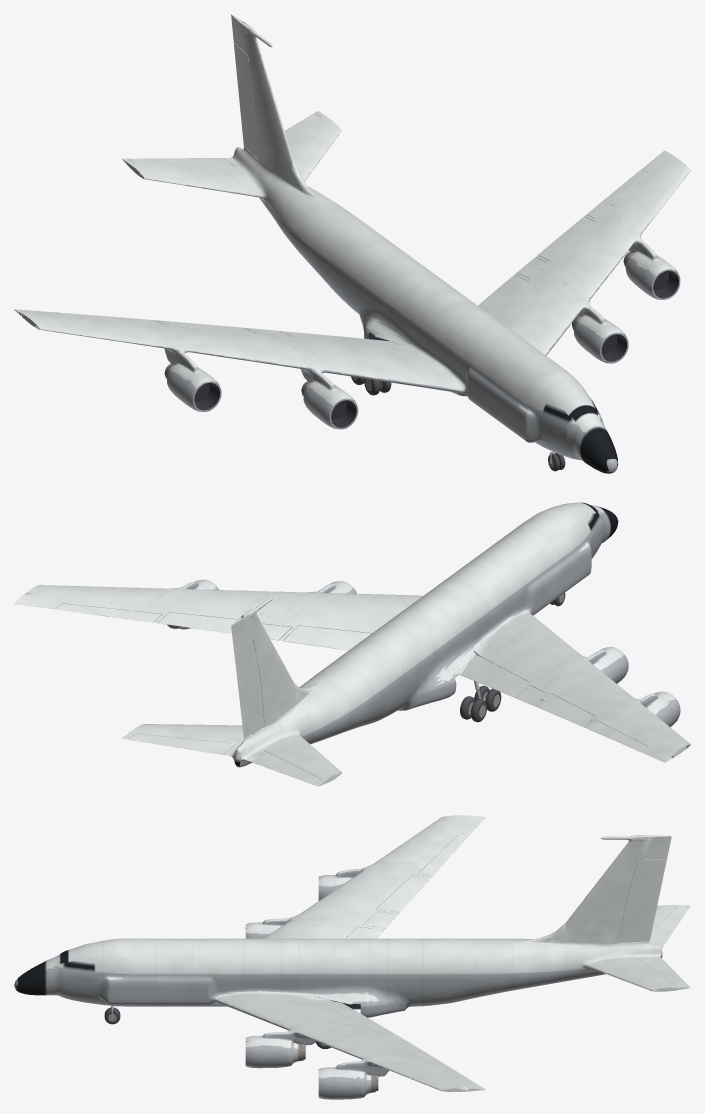
The picture shows the model from 3 angles, top to bottom: view 1: azimuth 30°, elevation 25°; view 2: azimuth 150°, elevation 25°; view 3: azimuth 270°, elevation 25°; orthographic projection. The views are drawn at different scales.
Visible parts, largest first — view 1: airframe, fsim:flaps (×2), fsim:rudder, fsim:elevator; view 2: airframe, fsim:flaps (×4), fsim:rudder, fsim:elevator (×2), fsim:aileron (×2), fsim:wheel:2:0.6225; view 3: airframe, fsim:rudder, fsim:flaps (×2), fsim:elevator (×2), fsim:aileron.
Boxes of the visible parts, <box> form: airframe: <box>14,14,690,473</box>; fsim:flaps (×2): <box>478,216,594,315</box>; fsim:rudder: <box>234,43,257,158</box>; fsim:elevator: <box>128,158,235,167</box>; airframe: <box>14,502,690,786</box>; fsim:flaps (×4): <box>158,612,594,727</box>; fsim:rudder: <box>234,639,264,738</box>; fsim:elevator (×2): <box>128,733,321,784</box>; fsim:aileron (×2): <box>56,603,646,752</box>; fsim:wheel:2:0.6225: <box>460,696,486,722</box>; airframe: <box>14,815,690,1099</box>; fsim:rudder: <box>620,859,666,942</box>; fsim:flaps (×2): <box>316,875,431,1027</box>; fsim:elevator (×2): <box>639,907,688,986</box>; fsim:aileron: <box>418,833,470,875</box>.
Size of the model in its own units: 39.9 by 12.78 by 41.79.
Materials: 6 (1 with a texture image).
